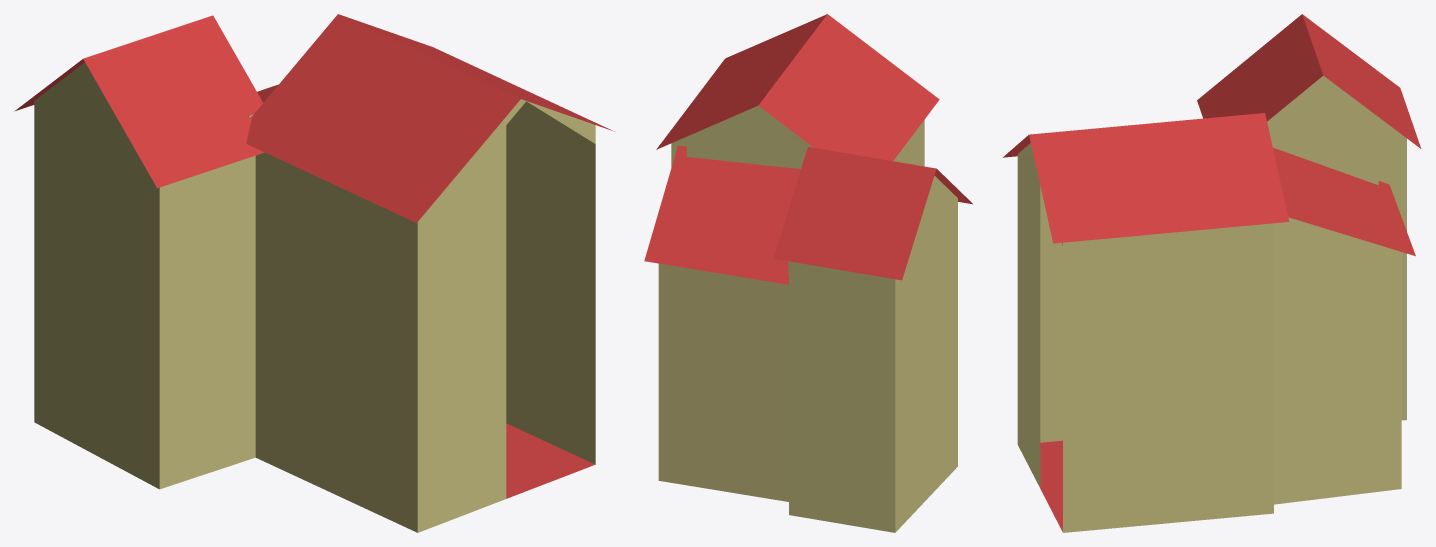
The picture shows the model from 3 angles, left to right: view 1: azimuth 30°, elevation 25°; view 2: azimuth 150°, elevation 25°; view 3: azimuth 270°, elevation 25°; orthographic projection. The views are drawn at different scales.
Size of the model in its own units: 16.23 by 16.3 by 15.35.
